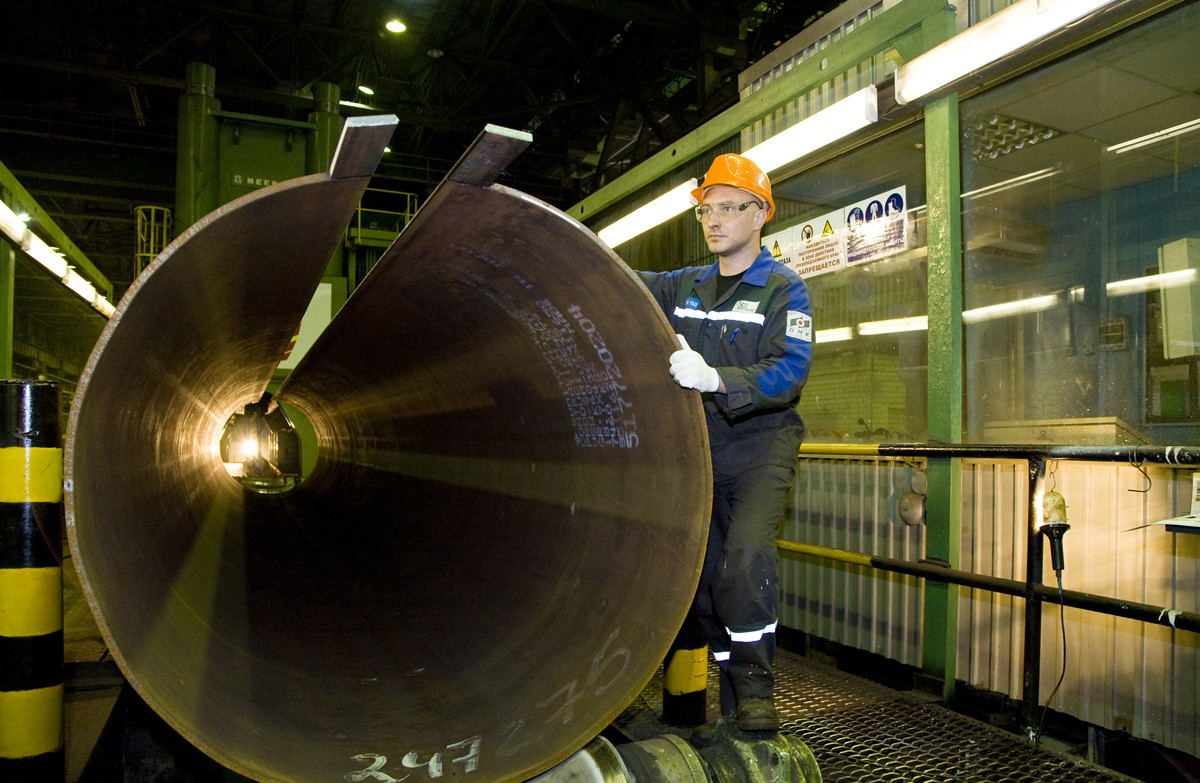person: (631, 154, 814, 741)
